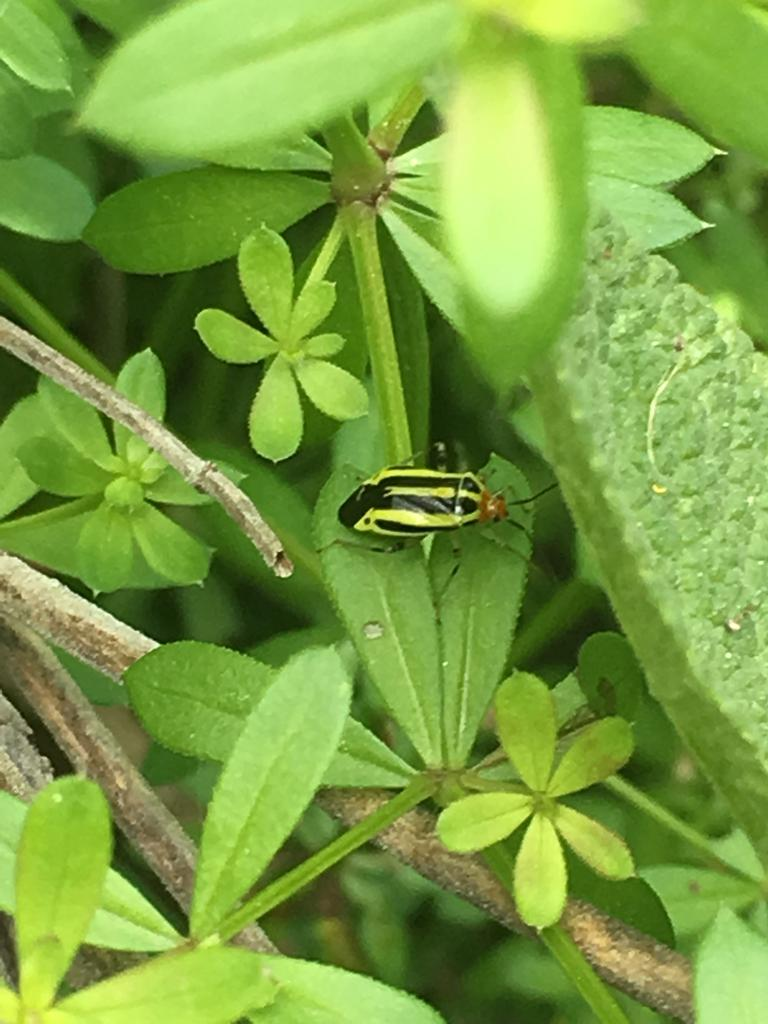plant_bugs: (296, 421, 586, 601)
